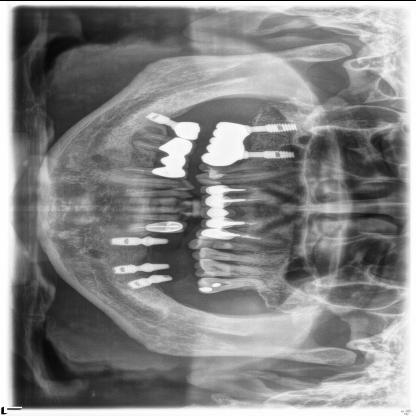Bicon: (142, 110, 175, 126), (265, 122, 297, 134), (110, 236, 146, 245), (263, 150, 295, 158), (113, 264, 137, 274)
